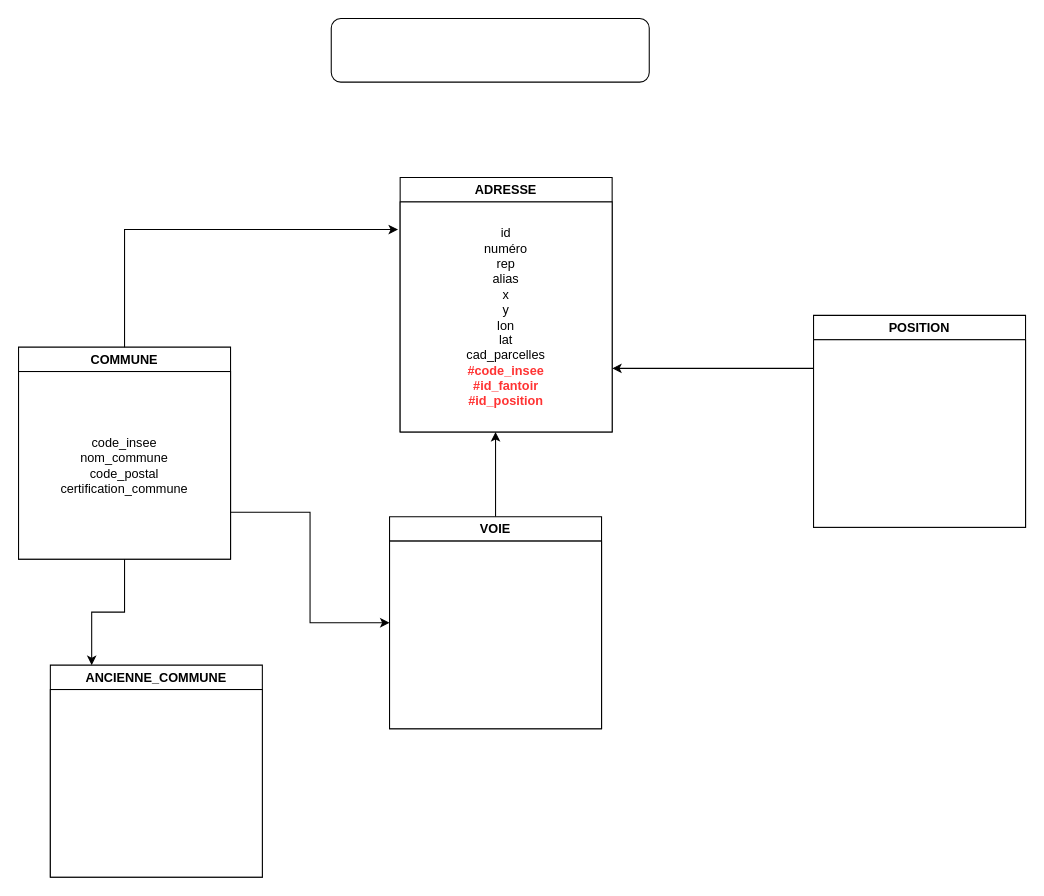
This 1044x896 diagram has some shape labels left out. Here are the shapes that lost their labels. From the top down, the box of each, then its label:
(330, 17, 649, 82): MLD : le Modèle Logique de Données
(812, 339, 1026, 527): id_position type_position source_position
(388, 540, 602, 729): id_fantoir nom_voie nom_afnor source_nom_voie #code_insee
(49, 688, 262, 877): code_insee_ancienne_commune nom_ancienne_commune #code_insee
